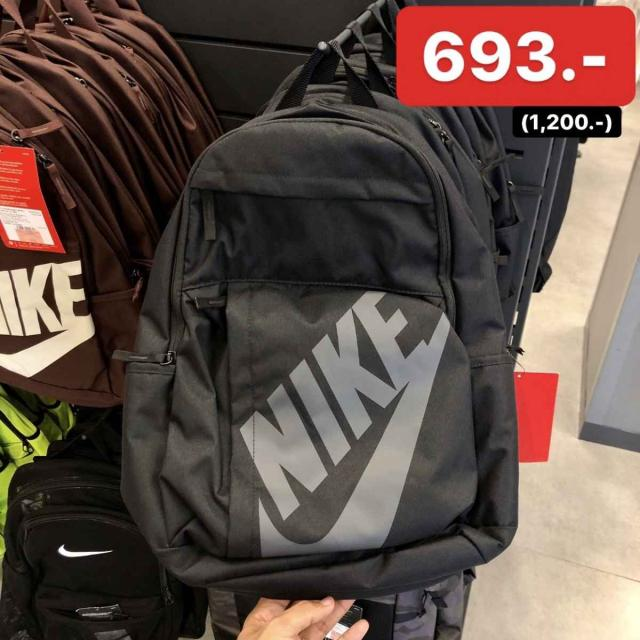handbag: (98, 71, 519, 616)
